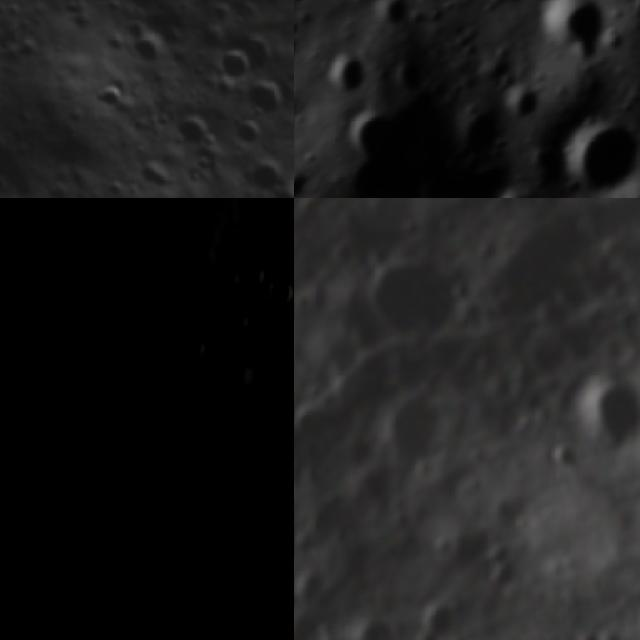crater: (335, 97, 504, 198), (353, 250, 467, 340), (555, 115, 640, 198), (559, 372, 640, 458), (378, 386, 452, 466), (109, 443, 181, 514), (530, 0, 609, 60), (158, 98, 225, 166), (236, 64, 294, 131), (201, 35, 263, 97), (124, 19, 184, 81), (230, 143, 294, 198), (148, 368, 203, 432), (474, 530, 523, 598), (122, 288, 179, 346), (346, 455, 402, 511), (323, 46, 379, 100), (344, 107, 398, 162), (11, 271, 62, 326), (219, 106, 270, 158), (36, 208, 86, 256), (88, 72, 136, 121), (412, 600, 464, 640), (256, 407, 294, 459), (525, 146, 572, 188), (530, 291, 573, 335), (101, 254, 146, 296), (346, 608, 400, 640), (261, 264, 294, 315), (208, 422, 248, 462), (370, 0, 411, 38), (222, 304, 262, 341), (63, 451, 101, 489), (0, 198, 45, 229), (393, 65, 430, 102), (500, 95, 542, 127), (546, 440, 574, 479), (234, 339, 262, 366), (294, 163, 313, 198), (294, 21, 304, 47), (294, 38, 302, 67)
